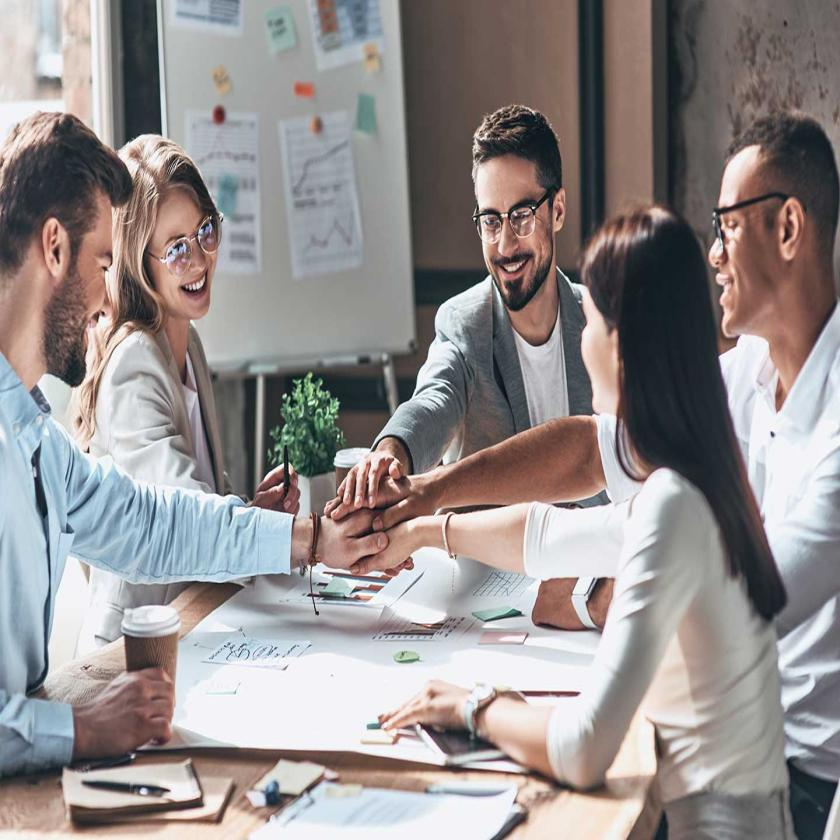Sin_casco: (3, 106, 132, 388), (710, 107, 840, 336), (580, 206, 709, 432), (115, 130, 221, 338), (472, 100, 568, 312)
